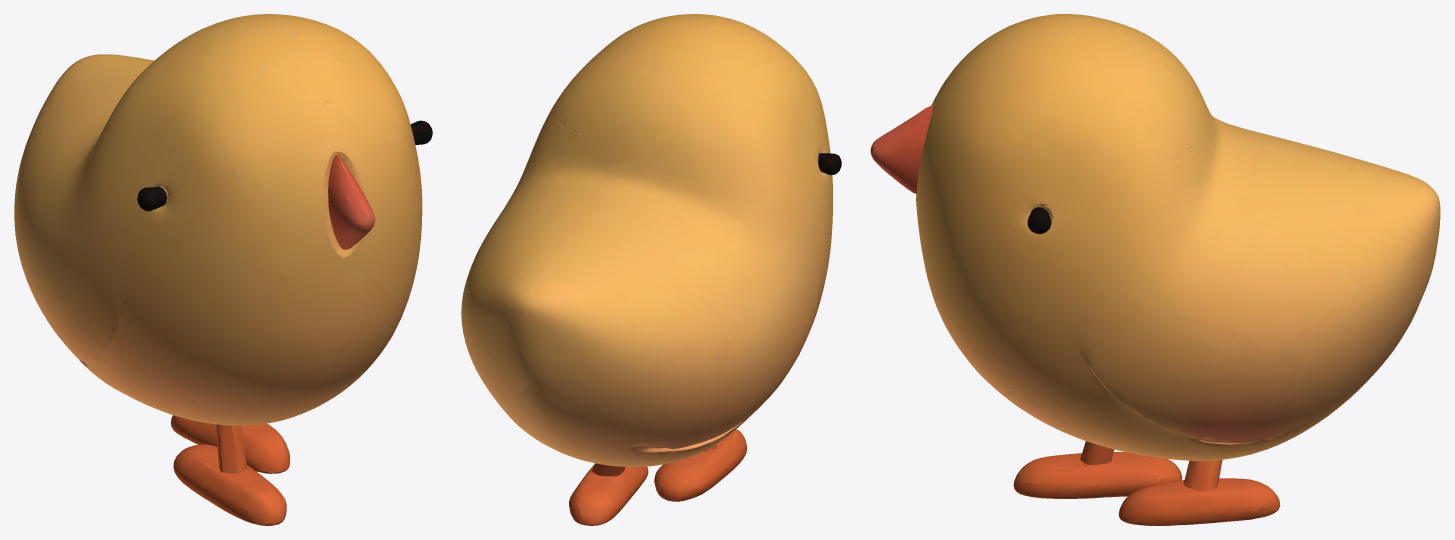
The model's file is chick.glb.
3 views of the same model, side by side, from view 1: azimuth 30°, elevation 25°; view 2: azimuth 150°, elevation 25°; view 3: azimuth 270°, elevation 25° (orthographic). The views are drawn at different scales.
Visible parts, largest first — view 1: Mesh; view 2: Mesh; view 3: Mesh.
Part boxes in pixels (x1=…): Mesh: x1=14, y1=14, x2=432, y2=525; Mesh: x1=461, y1=14, x2=841, y2=525; Mesh: x1=870, y1=14, x2=1440, y2=525.
Size of the model in its own units: 0.6397 by 0.9149 by 1.
Materials: 1 (1 with a texture image).
